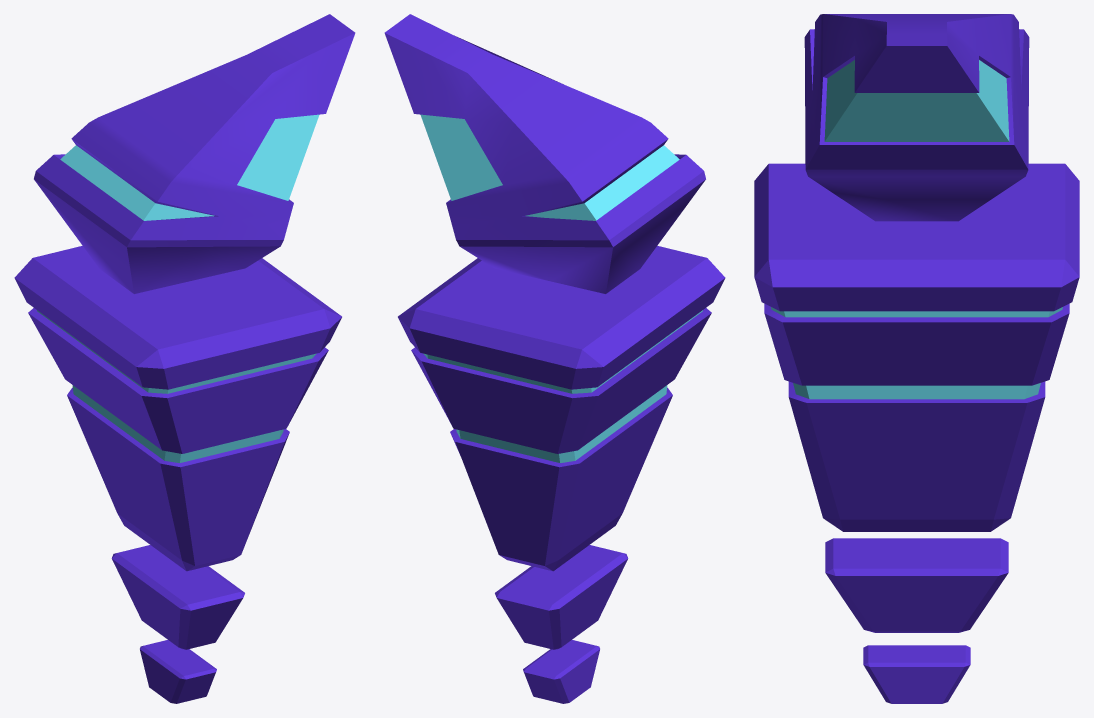
File: alien.fbx
3 renders of one model, left to right at view 1: azimuth 30°, elevation 25°; view 2: azimuth 150°, elevation 25°; view 3: azimuth 270°, elevation 25°, orthographic. The views are drawn at different scales.
Parts seen in each view (by area): view 1: Alien_character; view 2: Alien_character; view 3: Alien_character.
Boxes of the visible parts, x1,y1,x2,y2 form: Alien_character: (14, 14, 355, 703); Alien_character: (384, 14, 725, 703); Alien_character: (754, 14, 1079, 703).
Size of the model in its own units: 2.61 by 5.86 by 2.32.
Materials: 1 (1 with a texture image).
